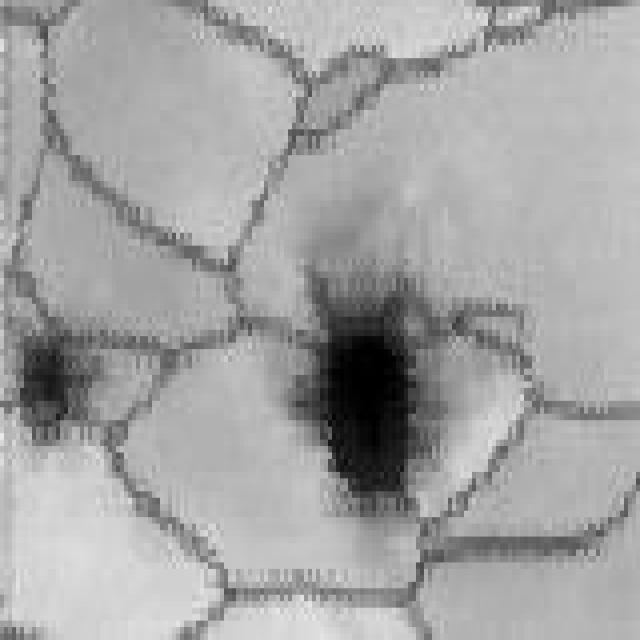good_void: (288, 258, 451, 524), (12, 311, 95, 458)
